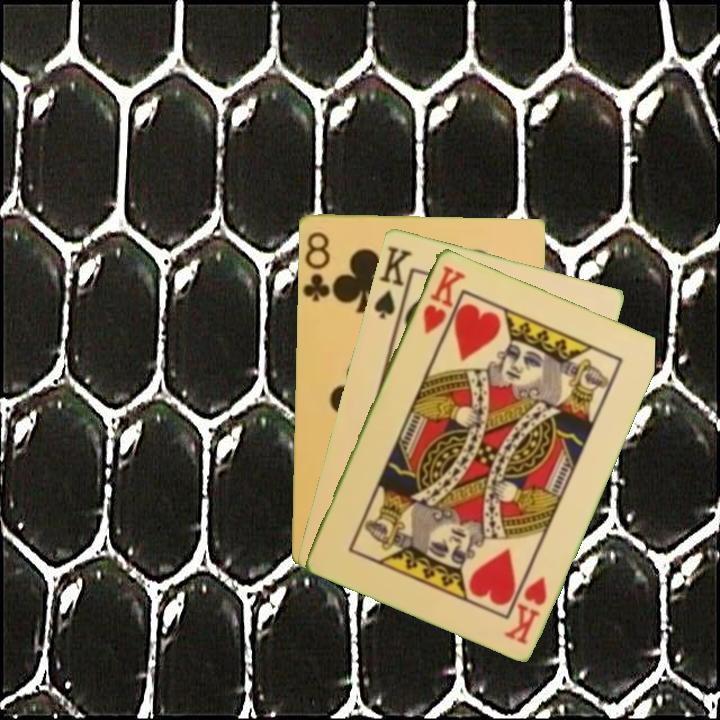8c: (299, 227, 333, 304)
Kh: (500, 572, 550, 647), (419, 261, 468, 337)
Ks: (370, 241, 414, 322)
